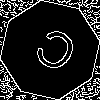C: (25, 25, 81, 84)
